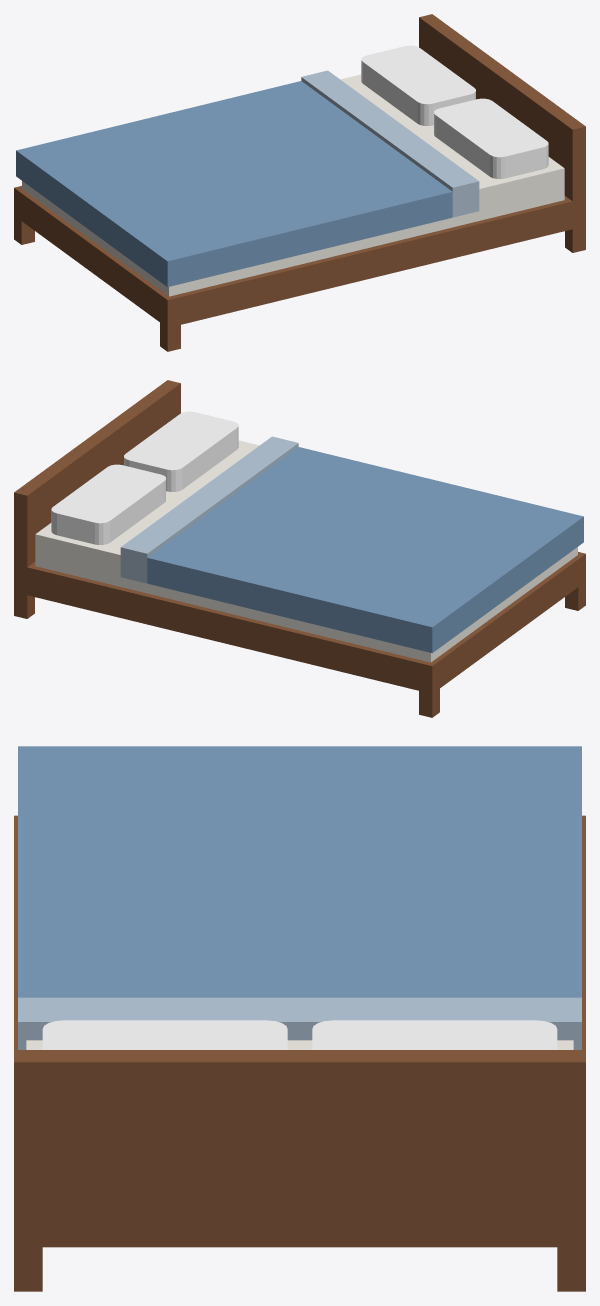
Rendered from double_bed.glb.
The picture shows the model from 3 angles, top to bottom: view 1: azimuth 30°, elevation 25°; view 2: azimuth 150°, elevation 25°; view 3: azimuth 270°, elevation 25°; orthographic projection. The views are drawn at different scales.
Parts seen in each view (by area): view 1: double_bed_Body; view 2: double_bed_Body; view 3: double_bed_Body.
Part boxes in pixels (bbox=[...]): double_bed_Body: bbox=[14, 14, 585, 351]; double_bed_Body: bbox=[14, 380, 585, 717]; double_bed_Body: bbox=[14, 746, 585, 1291].
Bounding box in the file's own units: 2.2 × 0.62 × 1.4.
